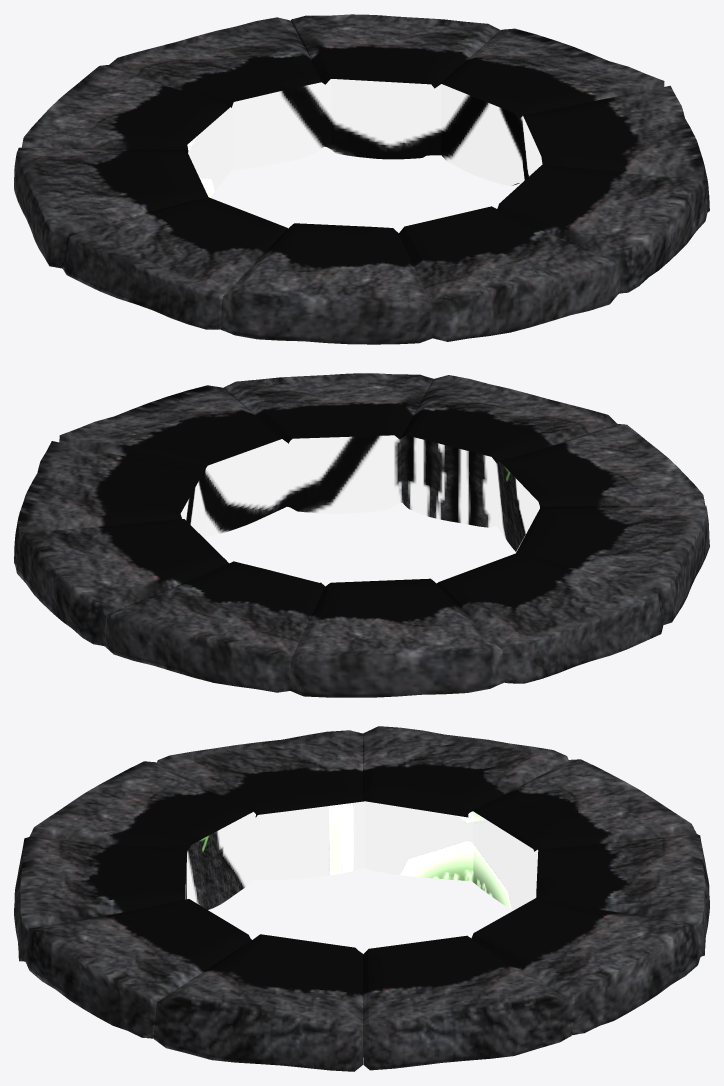
The model's file is teleportation.fbx.
3 renders of one model, top to bottom at view 1: azimuth 30°, elevation 25°; view 2: azimuth 150°, elevation 25°; view 3: azimuth 270°, elevation 25°, orthographic. The views are drawn at different scales.
Parts seen in each view (by area): view 1: pCylinder1_Default Material_0; view 2: pCylinder1_Default Material_0; view 3: pCylinder1_Default Material_0.
Boxes of the visible parts, x1,y1,x2,y2 form: pCylinder1_Default Material_0: (14,14,709,344); pCylinder1_Default Material_0: (14,373,709,697); pCylinder1_Default Material_0: (14,726,709,1071).
Size of the model in its own units: 1006 by 128 by 966.
1 material, 1 textured.
